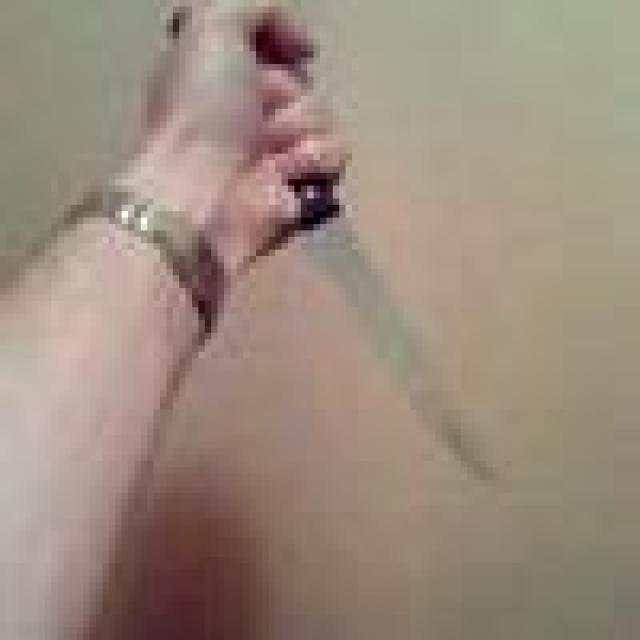faca: (134, 6, 532, 525)
